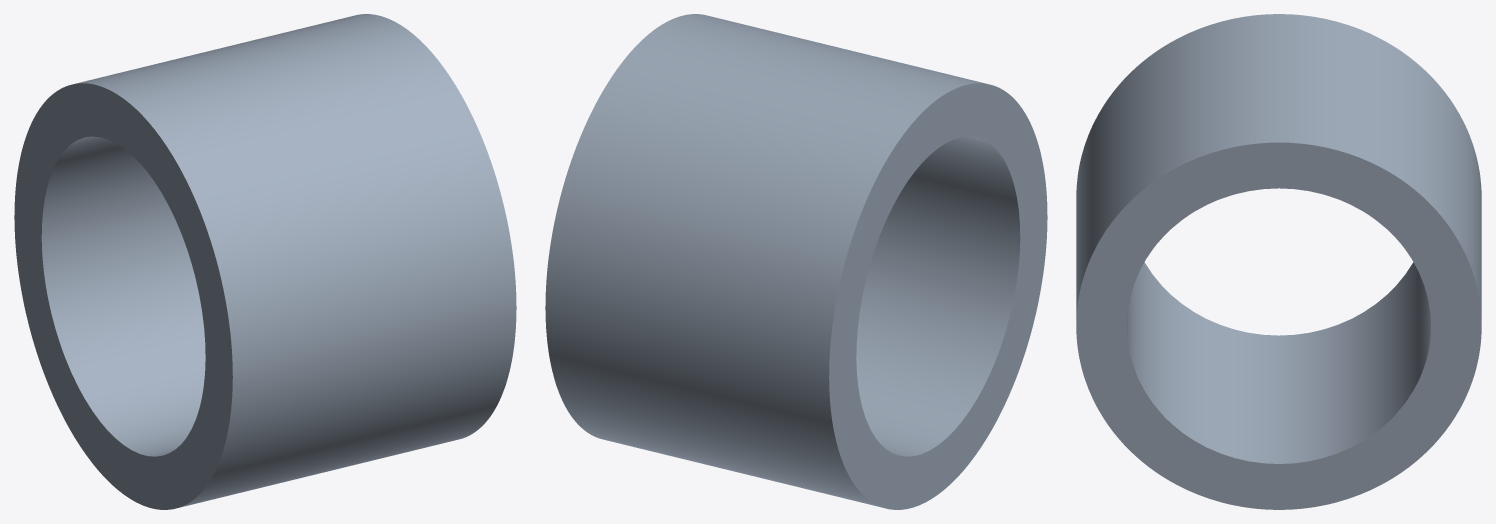
The model's file is cam_shaft_bushing.obj.
The picture shows the model from 3 angles, left to right: view 1: azimuth 30°, elevation 25°; view 2: azimuth 150°, elevation 25°; view 3: azimuth 270°, elevation 25°; orthographic projection. The views are drawn at different scales.
Visible parts, largest first — view 1: 1; view 2: 1; view 3: 1.
Part boxes in pixels (<box>): 1: <box>14,14,516,509</box>; 1: <box>545,14,1047,509</box>; 1: <box>1076,14,1481,509</box>.
Bounding box in the file's own units: 19.05 × 25.4 × 25.4.
